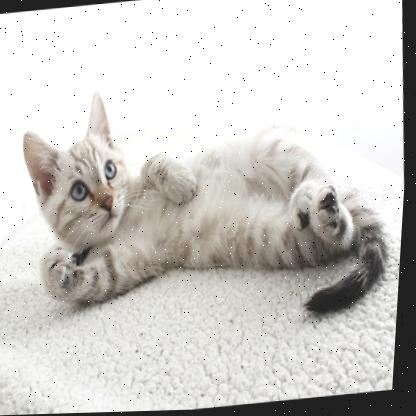cat: (6, 59, 405, 345)
